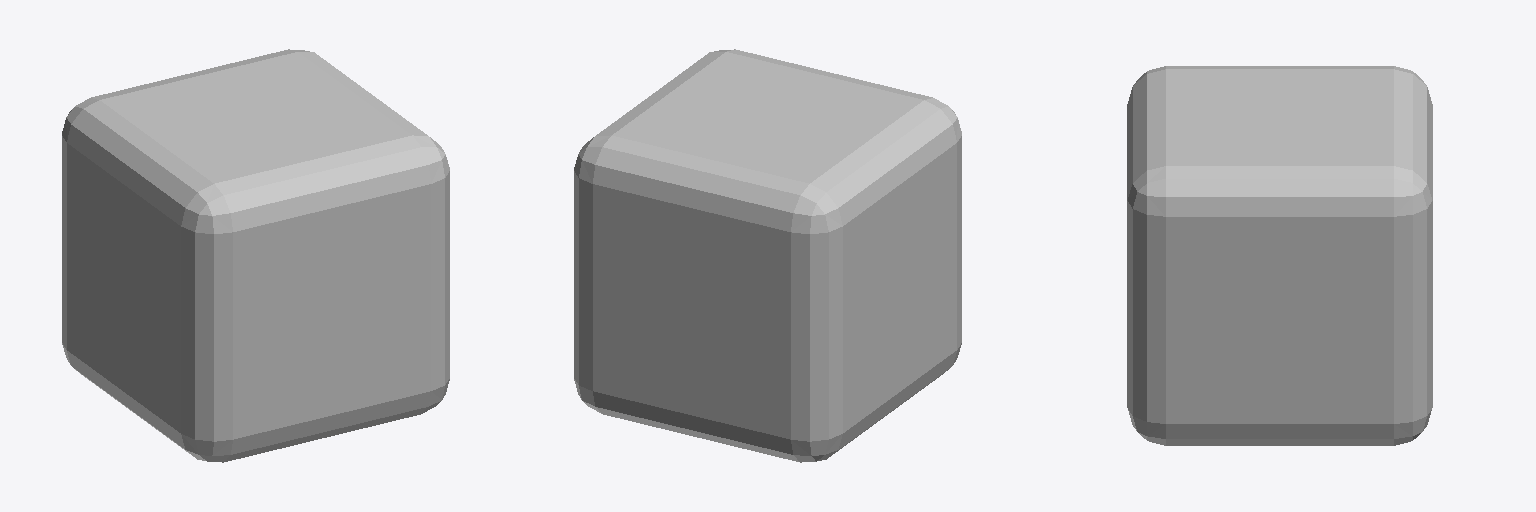
File: cube_with_rounded_edges4.obj
3 renders of one model, left to right at view 1: azimuth 30°, elevation 25°; view 2: azimuth 150°, elevation 25°; view 3: azimuth 270°, elevation 25°, orthographic.
Parts seen in each view (by area): view 1: cube4; view 2: cube4; view 3: cube4.
Boxes of the visible parts, x1,y1,x2,y2 form: cube4: [62, 49, 449, 462]; cube4: [574, 49, 961, 462]; cube4: [1127, 66, 1432, 445].
Bounding box in the file's own units: 2 × 2 × 2.